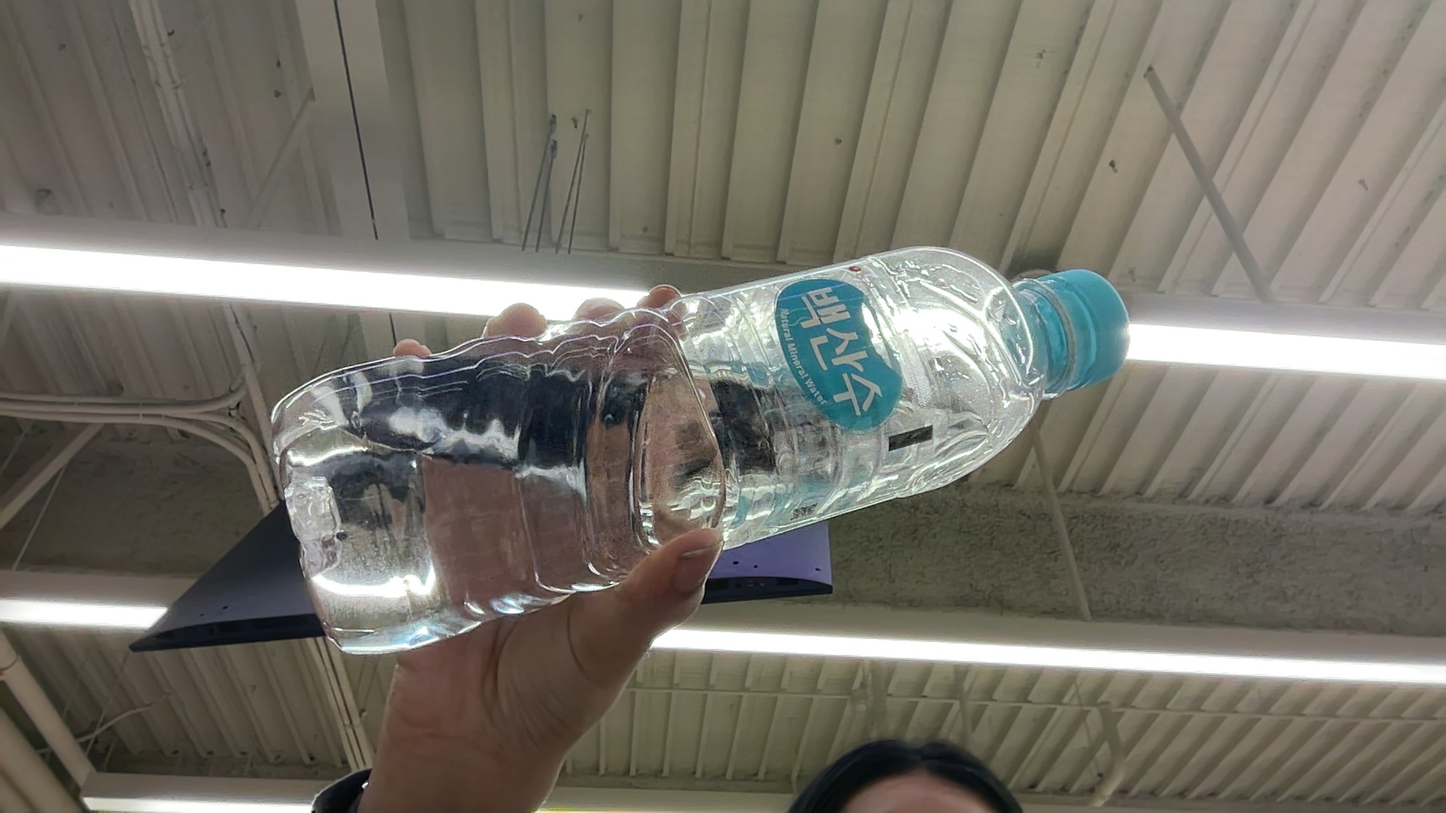Plastic: (5, 406, 269, 607)
